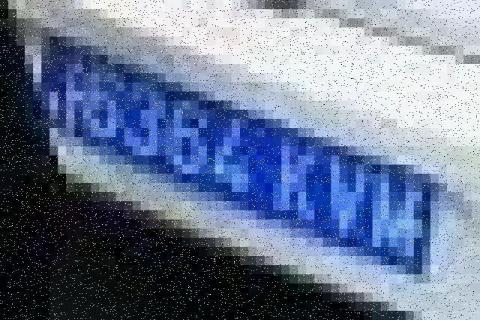LicensePlate: (15, 7, 455, 306)
